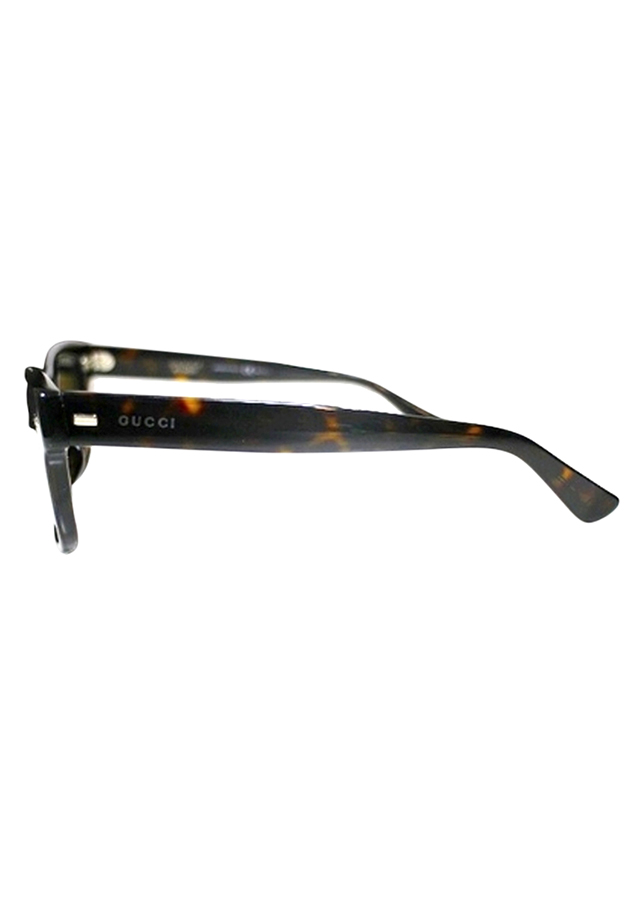Gucci: (114, 407, 182, 435)
